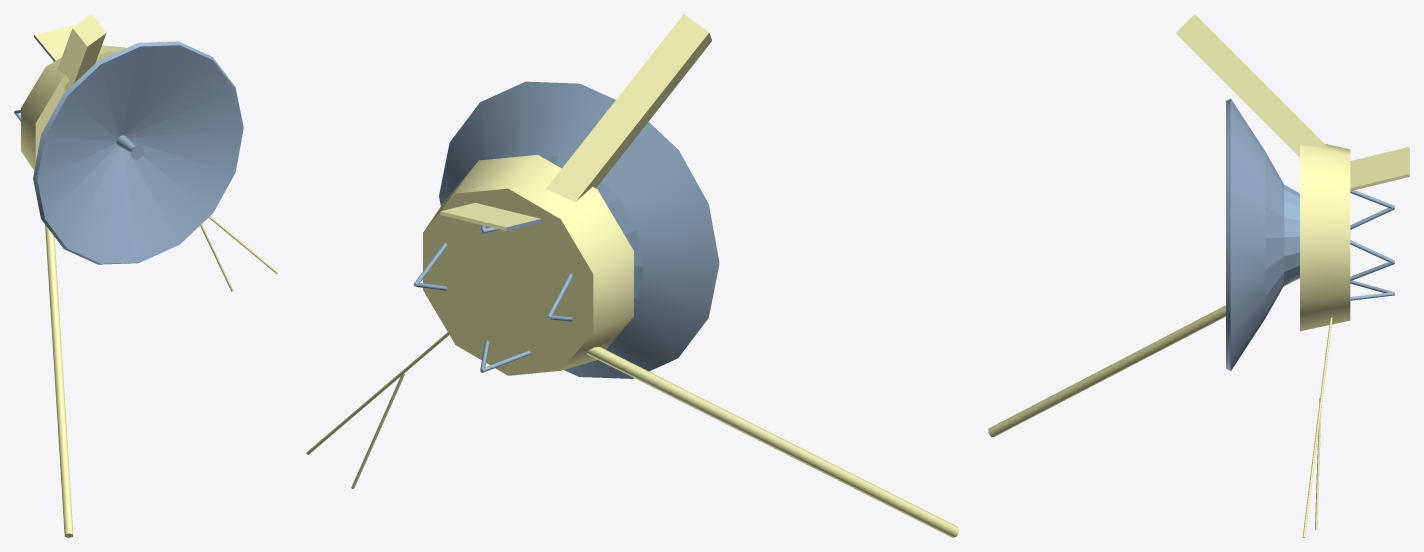
Rendered from probe.dae.
3 renders of one model, left to right at view 1: azimuth 30°, elevation 25°; view 2: azimuth 150°, elevation 25°; view 3: azimuth 270°, elevation 25°, orthographic. The views are drawn at different scales.
Visible parts, largest first — view 1: Cylinder001; view 2: Cylinder001; view 3: Cylinder001.
Boxes of the visible parts, box(x1,y1,x2,y2) form: Cylinder001: box(14, 14, 277, 537); Cylinder001: box(306, 14, 959, 537); Cylinder001: box(988, 14, 1409, 537).
Bounding box in the file's own units: 167 × 196 × 154.
